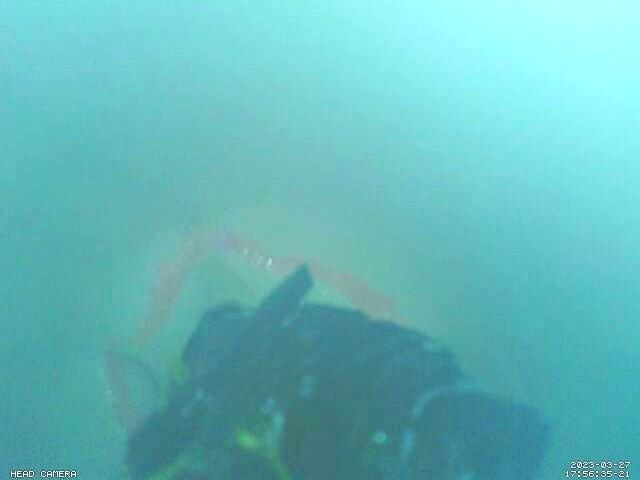head: (101, 229, 399, 426)
